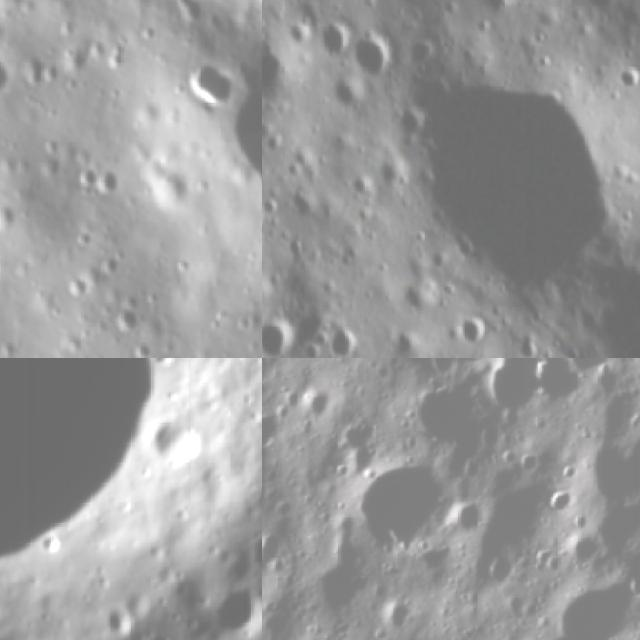crater: (0, 358, 262, 640), (399, 82, 616, 289), (344, 466, 465, 564), (405, 374, 504, 469), (544, 573, 640, 640), (175, 54, 240, 112), (485, 358, 537, 419), (206, 584, 262, 640), (338, 409, 386, 474), (367, 588, 416, 640), (531, 358, 578, 412), (348, 39, 386, 91), (552, 358, 628, 380), (262, 51, 290, 109), (262, 314, 296, 358), (322, 323, 359, 358), (450, 502, 482, 542), (445, 358, 505, 379), (450, 318, 484, 353), (95, 162, 126, 200), (302, 384, 333, 422), (314, 27, 343, 64), (245, 523, 262, 580), (547, 491, 579, 518), (385, 334, 418, 358), (614, 70, 640, 97), (0, 203, 16, 235)
